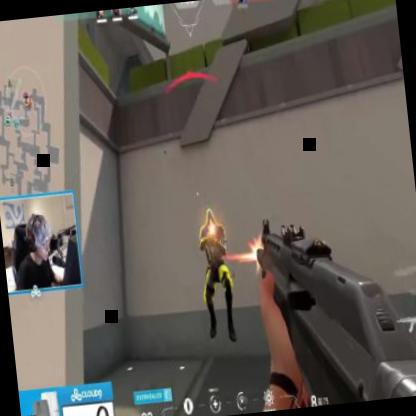enemy: (192, 204, 238, 344)
enemy_head: (204, 208, 216, 228)
